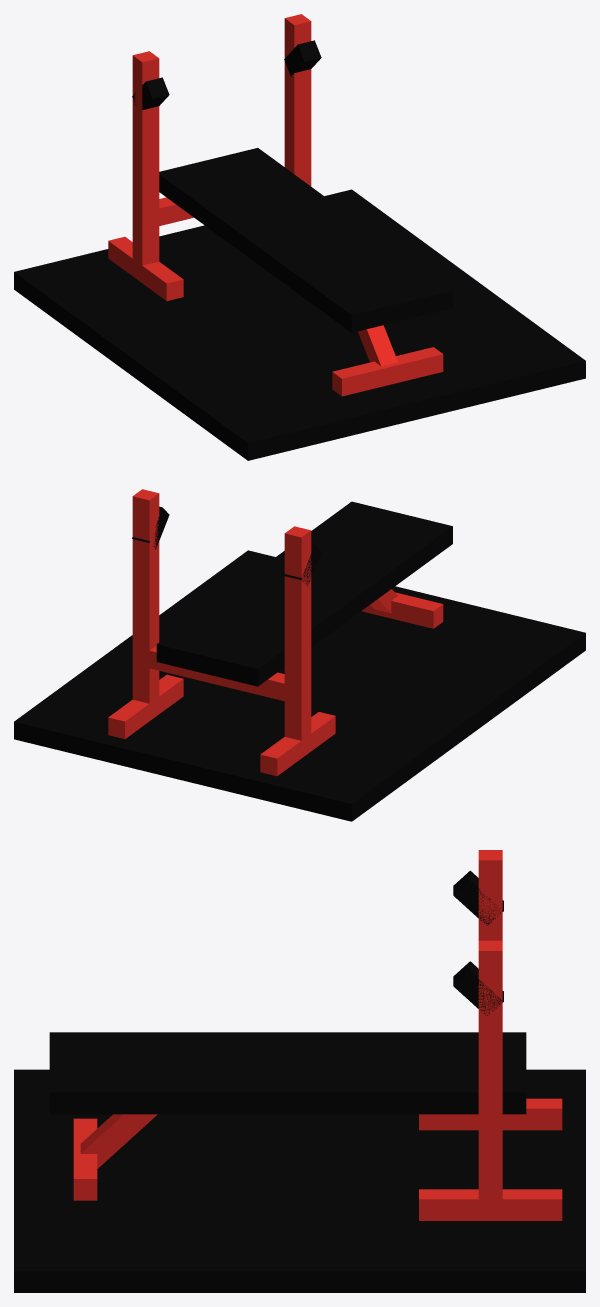
File: benchpress.fbx
The picture shows the model from 3 angles, top to bottom: view 1: azimuth 30°, elevation 25°; view 2: azimuth 150°, elevation 25°; view 3: azimuth 270°, elevation 25°; orthographic projection. The views are drawn at different scales.
Parts seen in each view (by area): view 1: Cube, Cube.003, Cube.007, Cube.006, Cube.001, Cube.005, Cube.002, Cube.009, Cube.008, Cube.010; view 2: Cube, Cube.003, Cube.007, Cube.006, Cube.008, Cube.004, Cube.005, Cube.001; view 3: Cube, Cube.003, Cube.006, Cube.004, Cube.005, Cube.007, Cube.002, Cube.001, Cube.009, Cube.010.
Boxes of the visible parts, x1,y1,x2,y2 form: Cube: (14,189,585,460); Cube.003: (159,148,452,332); Cube.007: (132,51,159,273); Cube.006: (284,14,311,186); Cube.001: (332,347,443,396); Cube.005: (108,236,183,300); Cube.002: (358,325,397,366); Cube.009: (284,40,321,76); Cube.008: (132,197,193,229); Cube.010: (132,77,169,109); Cube: (14,550,585,821); Cube.003: (156,501,452,686); Cube.007: (284,526,311,748); Cube.006: (132,489,159,706); Cube.008: (132,646,305,705); Cube.004: (108,674,183,738); Cube.005: (260,712,335,776); Cube.001: (361,592,443,628); Cube: (14,1069,585,1292); Cube.003: (49,1032,526,1114); Cube.006: (478,940,502,1199); Cube.004: (419,1189,562,1220); Cube.005: (419,1098,562,1130); Cube.007: (478,850,502,940); Cube.002: (80,1114,157,1168); Cube.001: (73,1118,97,1200); Cube.009: (453,961,503,1015); Cube.010: (453,870,503,925).
Bounding box in the file's own units: 2000 × 1350 × 2400.
